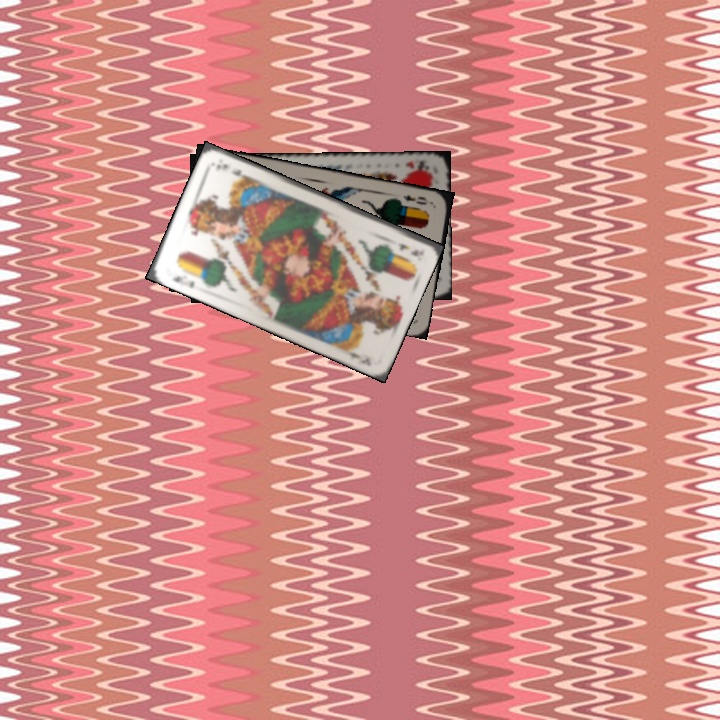EK: (393, 240, 422, 259), (169, 272, 198, 290)
EO: (399, 190, 435, 207)
HK: (401, 156, 432, 173)
